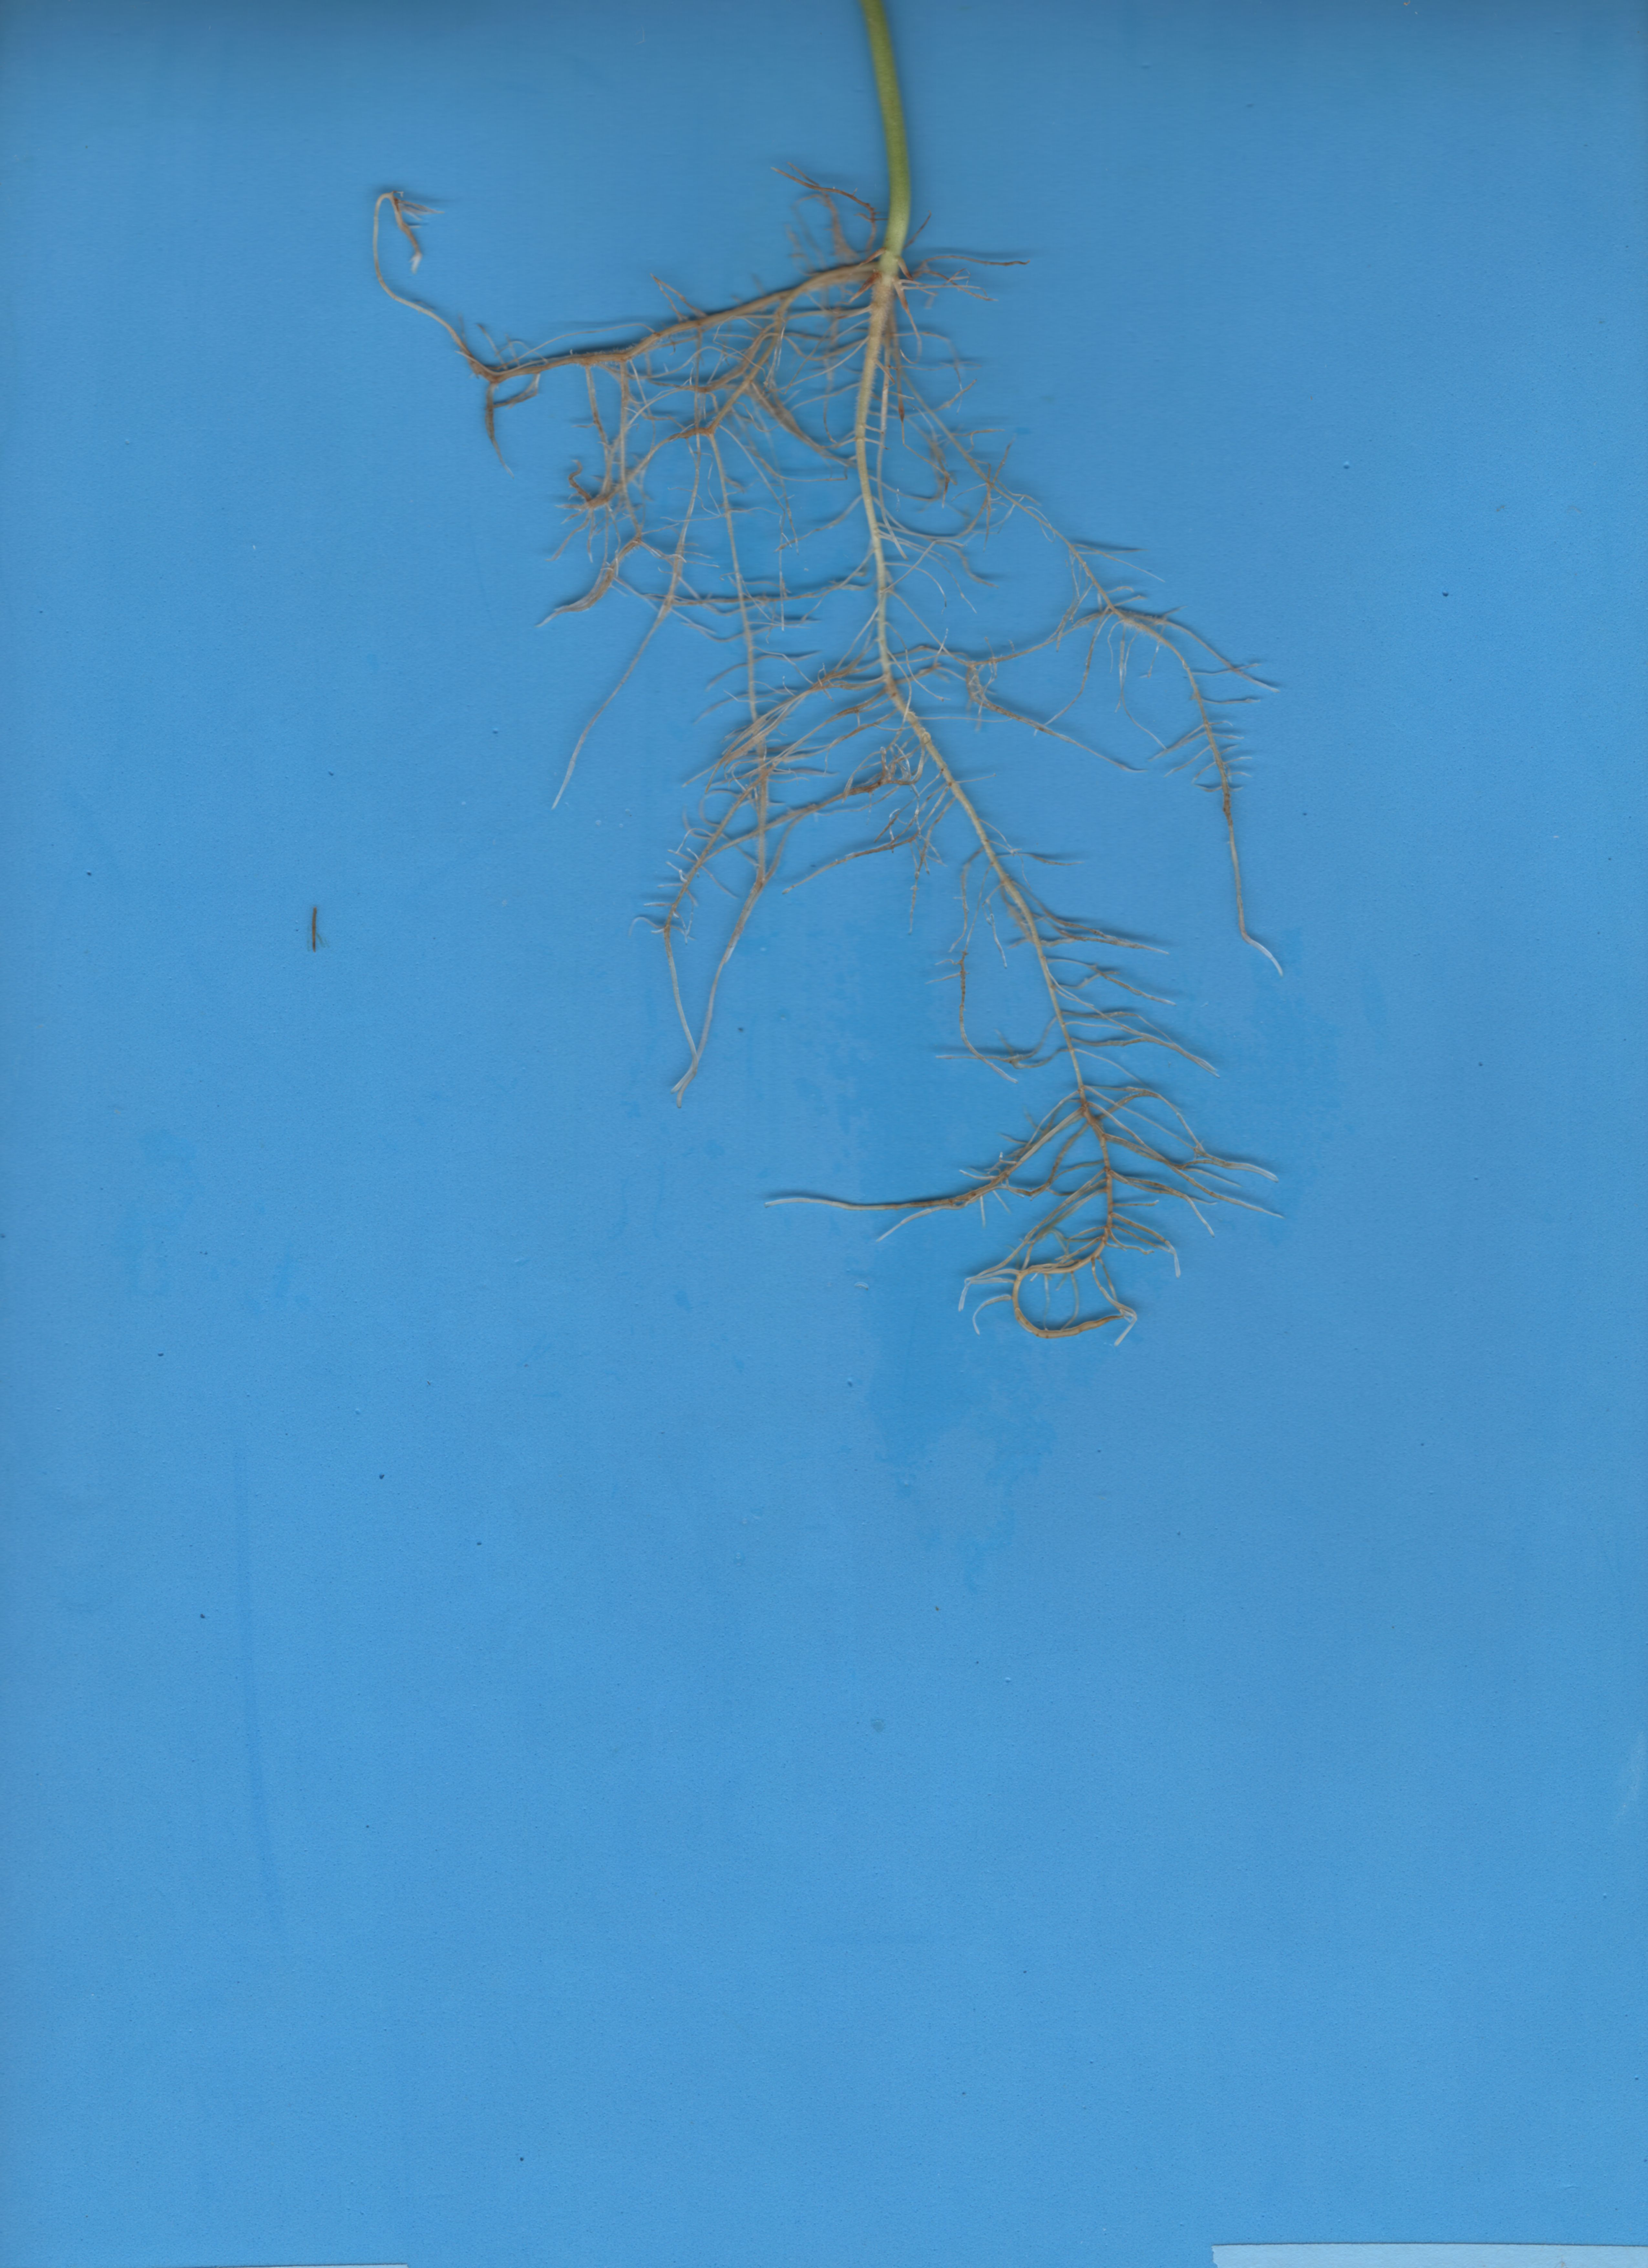CROWNGOOD: (784, 11, 998, 282)
ROOTGOOD: (354, 194, 1426, 1416)
